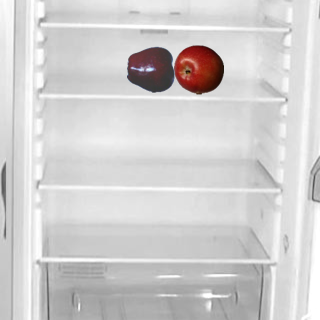Apple Braeburn: (173, 44, 223, 94)
Apple Red Delicious: (126, 44, 176, 94)
